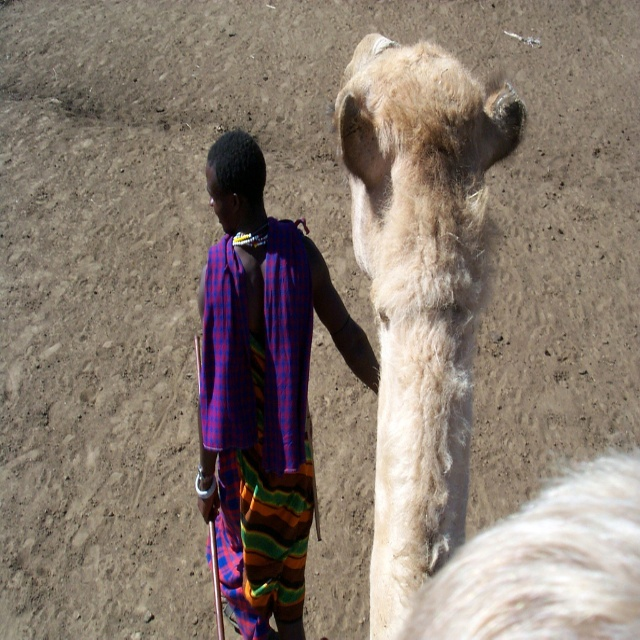Camel: (334, 33, 640, 639)
